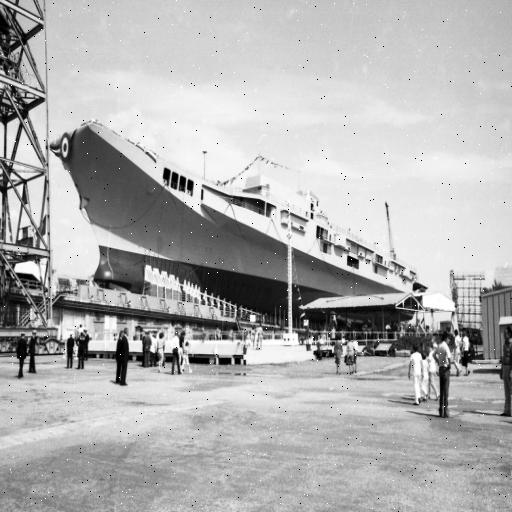Portanaves: (50, 110, 456, 307)
